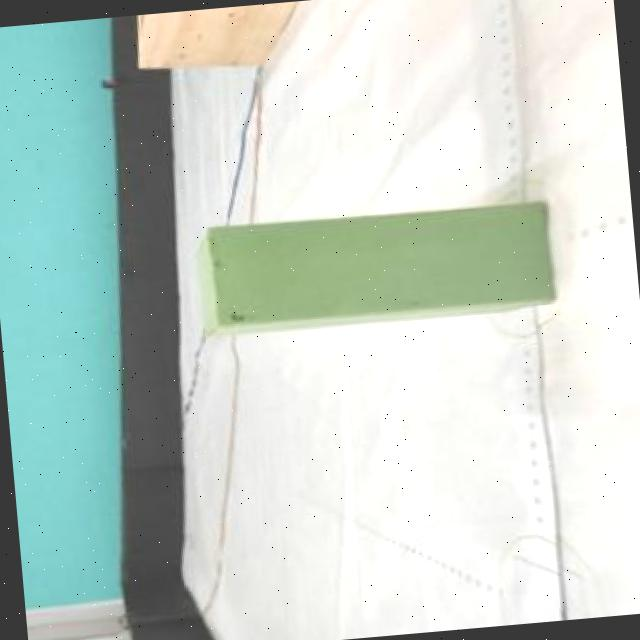greenbox: (184, 192, 558, 342)
